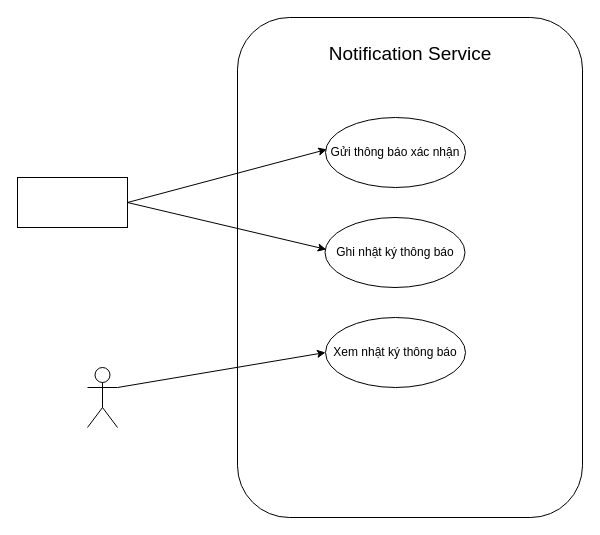
Some shapes in this 600 by 535 pixel diagram are drawn without their labels. The shapes that lost their labels are listed below. From the top down, each one's box as (x1, y1, x2, y2) in pixels, then its label:
(16, 176, 128, 228): BookingService
(86, 366, 118, 428): Admin
